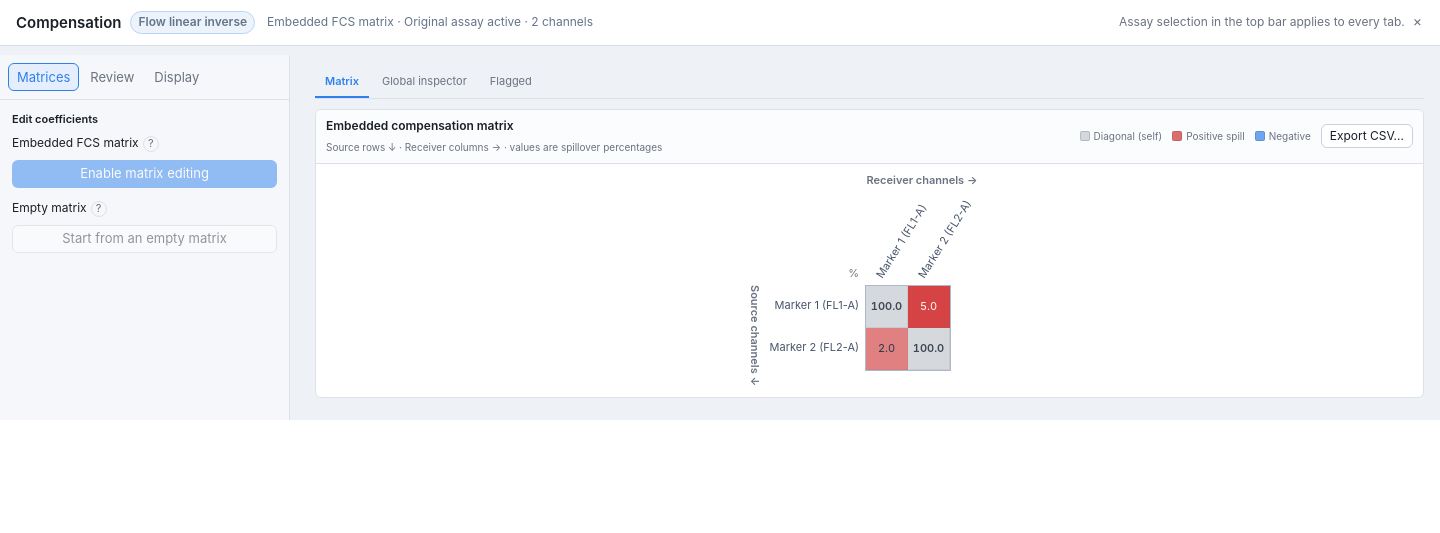
Test case: CompensationTab common path › previews a cell and its crosshairs on hover without pinning it
Hover over the cell with class "gl-comp-cell" showing "5.0" at (929, 307), box [908,286,950,328]
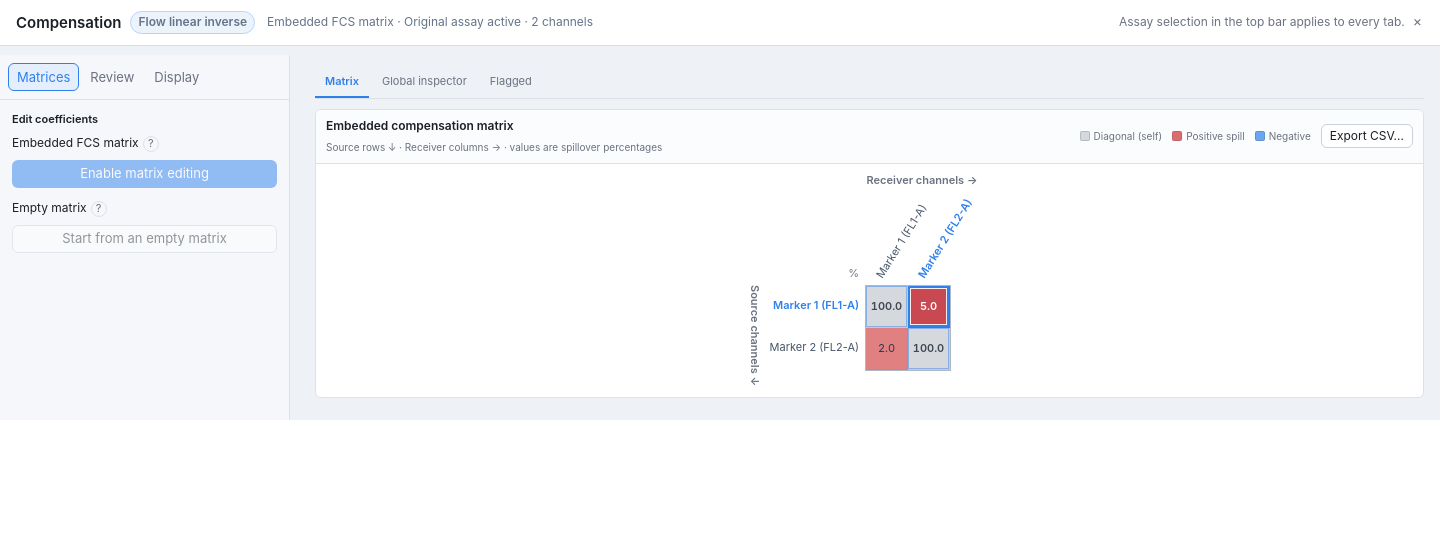
Expected: the cell with class "gl-comp-cell" has class "selected"
Move the pointer off the cell with class "is-selected-receiver" showing "5.0", box [908,286,950,328]
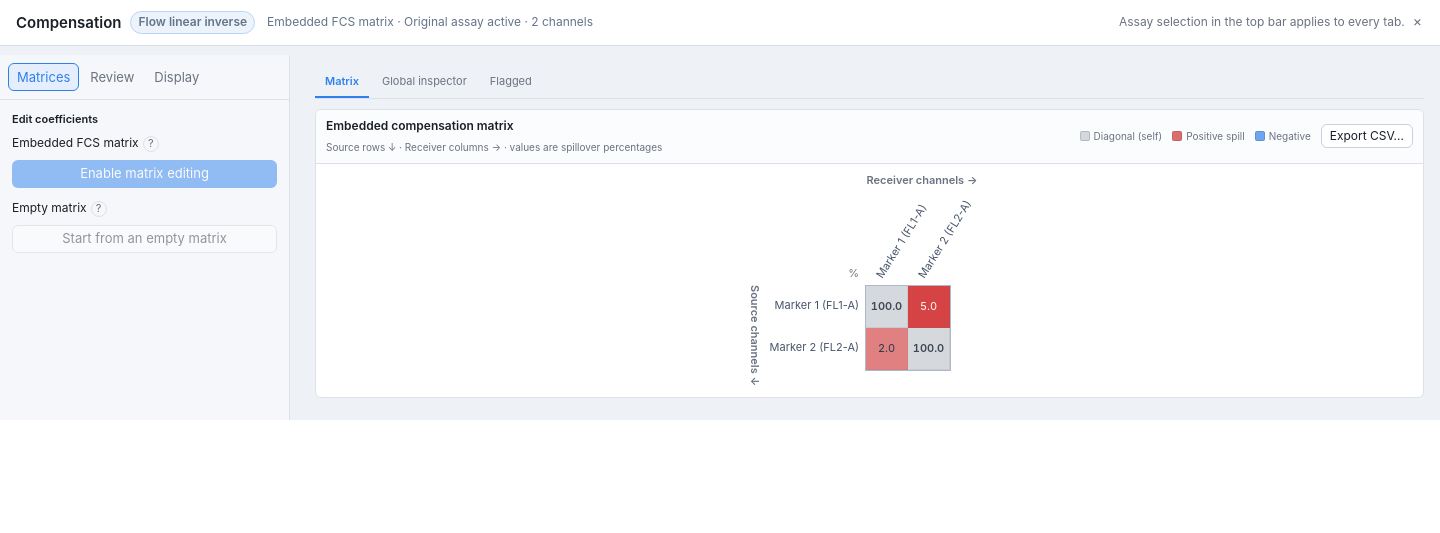
Expected: the cell with class "is-selected-receiver" does not have class "selected", [908,286,950,328]
Click the cell with class "gl-comp-cell" showing "2.0" at (887, 349), box [866,328,908,370]
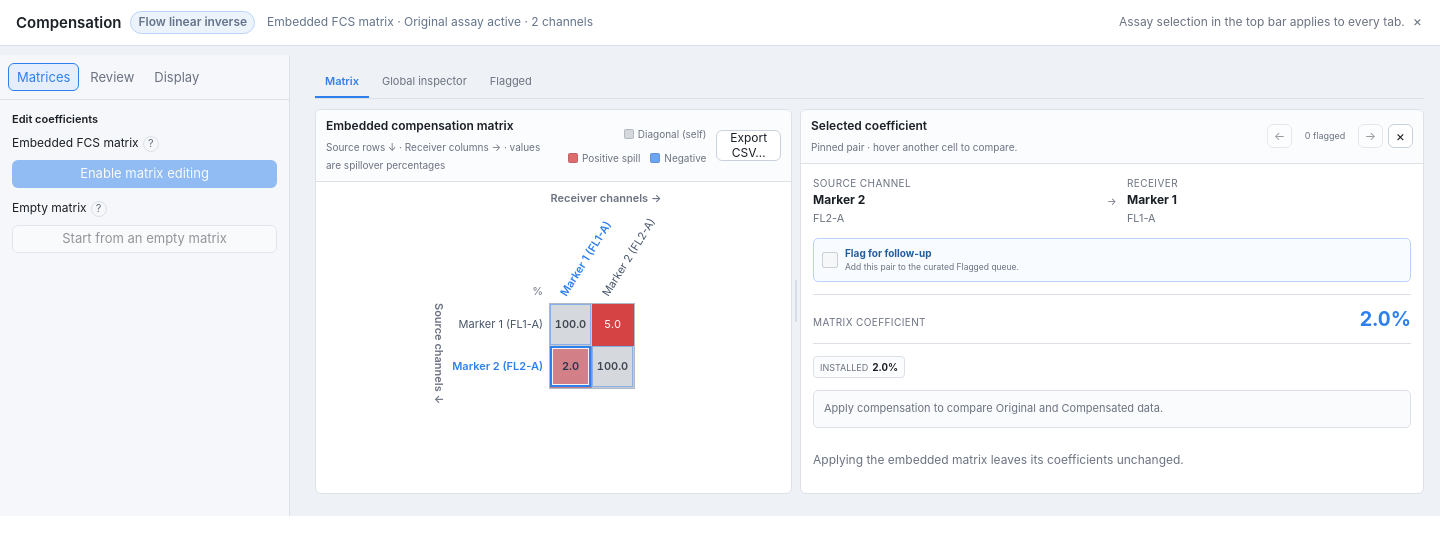
Expected: the element with class "gl-comp-pair-detail" shows "2.0%", [1360,307,1411,331]
Hover over the cell with class "gl-comp-cell" showing "5.0" at (613, 325), box [592,304,634,346]
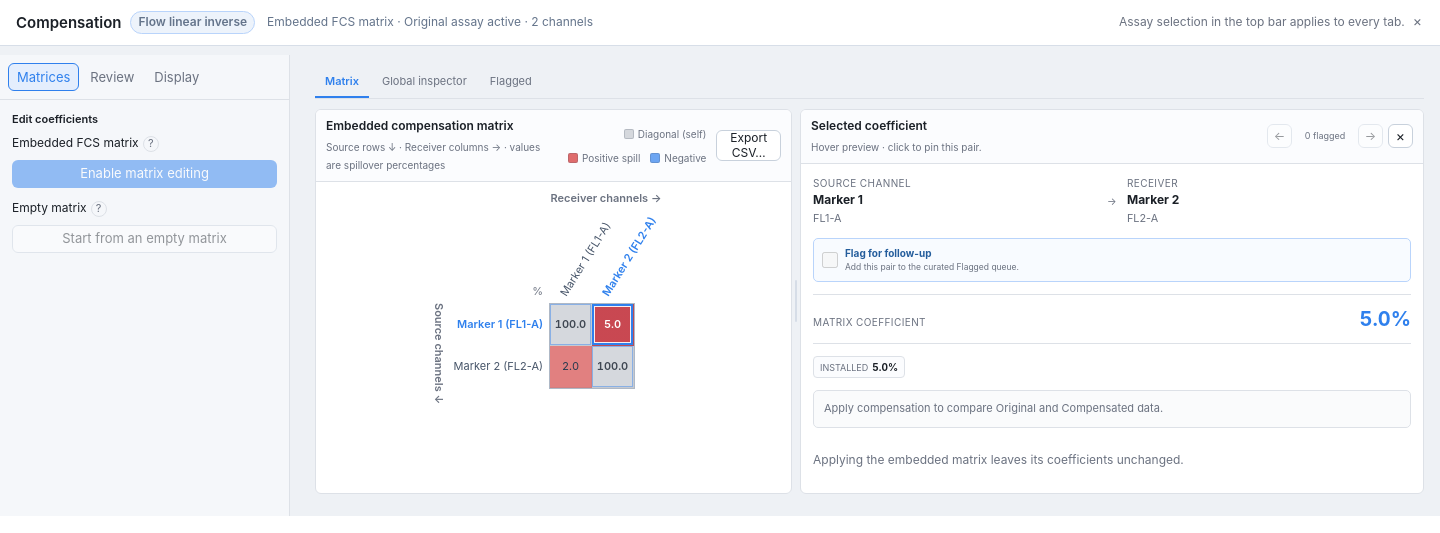
Expected: the element with class "gl-comp-pair-detail" shows "5.0%", [1360,307,1411,331]
Expected: the text "Hover preview · click to pin this pair." is shown, [811,141,982,153]
Move the pointer off the cell with class "gl-comp-cell" showing "5.0", box [592,304,634,346]
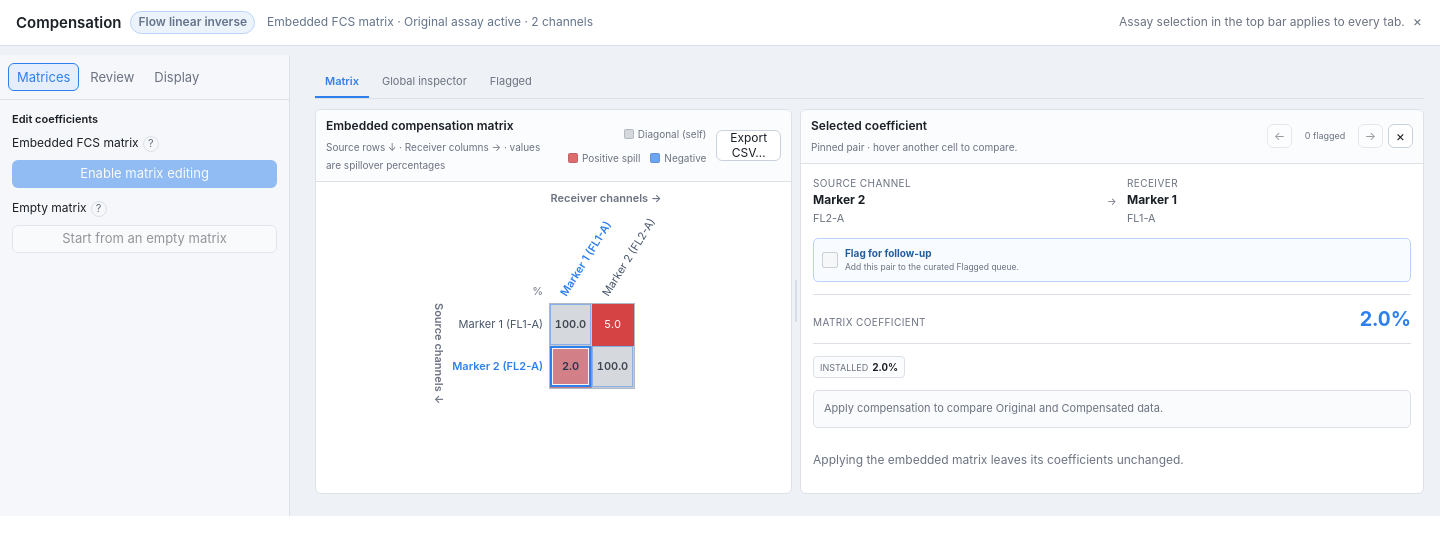
Expected: the element with class "gl-comp-pair-detail" shows "2.0%", [1360,307,1411,331]
